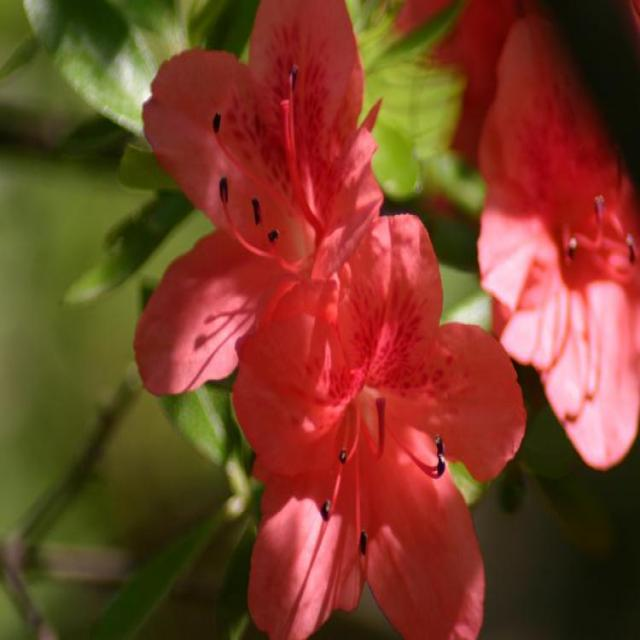azalea: (112, 0, 397, 402), (242, 253, 524, 631)
